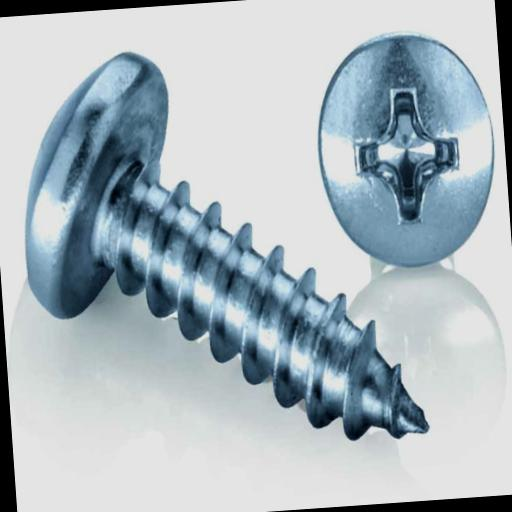Phillips: (309, 26, 504, 277)
